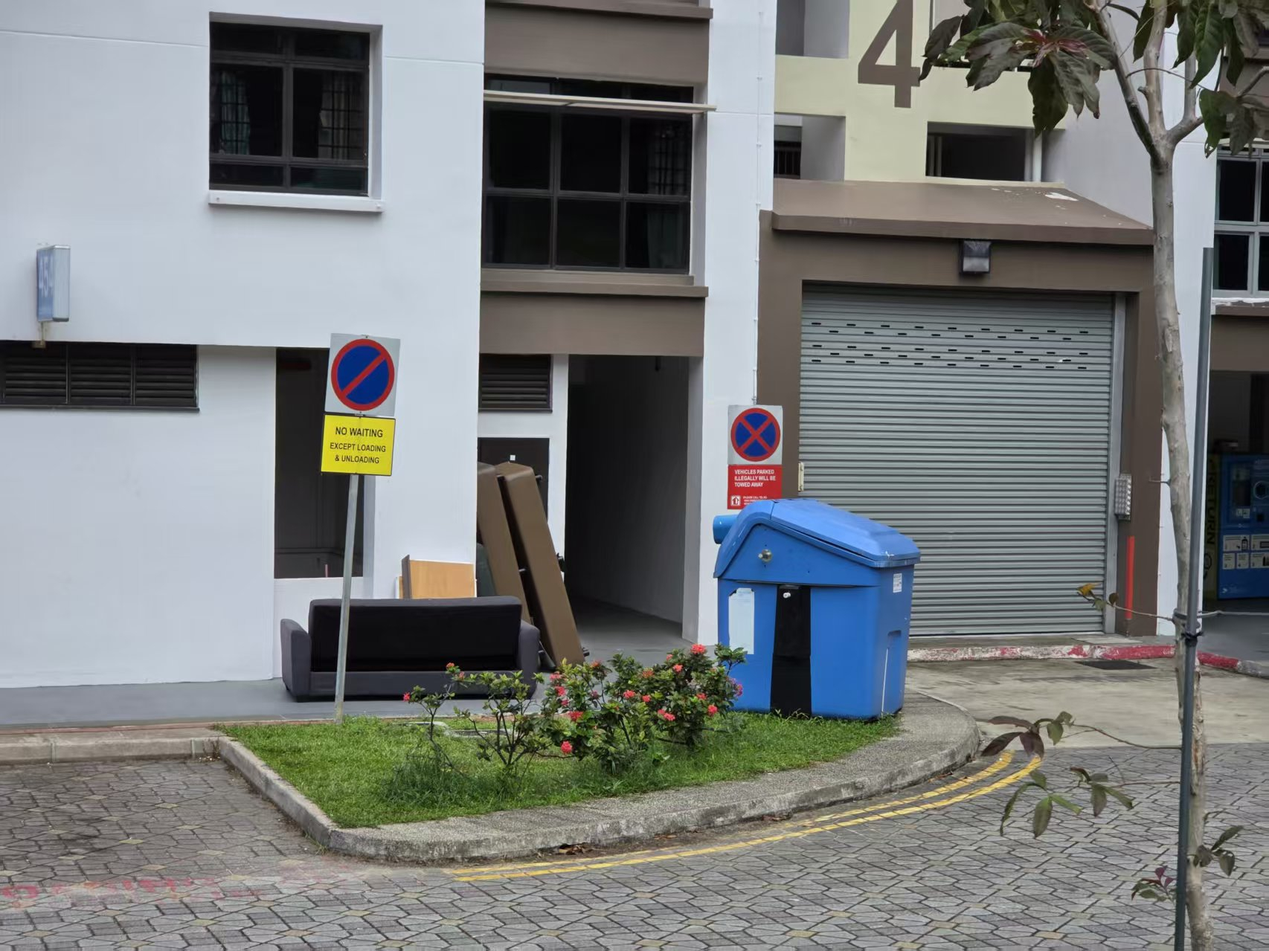bin_empty: (714, 498, 920, 718)
bulk_waste: (346, 596, 539, 697), (496, 462, 583, 663), (478, 462, 530, 620), (280, 599, 339, 700), (398, 555, 475, 598)
